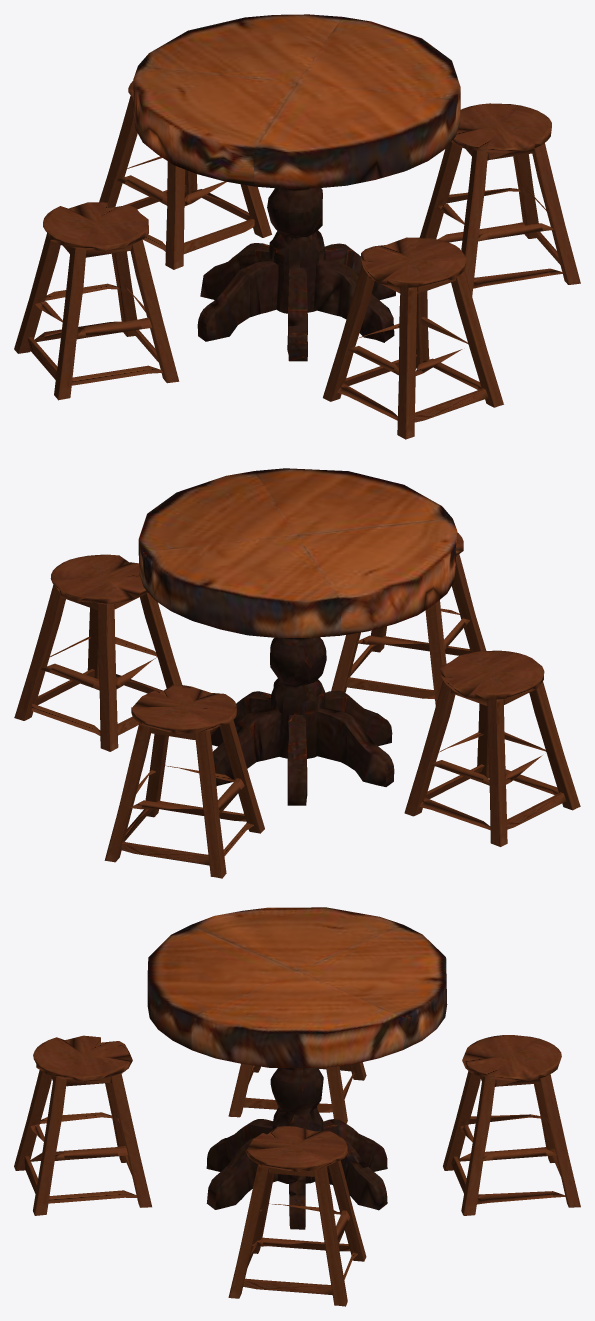
Rendered from tavern-table-set.lod1.glb.
The picture shows the model from 3 angles, top to bottom: view 1: azimuth 30°, elevation 25°; view 2: azimuth 150°, elevation 25°; view 3: azimuth 270°, elevation 25°; orthographic projection. The views are drawn at different scales.
Bounding box in the file's own units: 1.8 × 0.76 × 1.8.
Materials: 2 (2 with a texture image).
